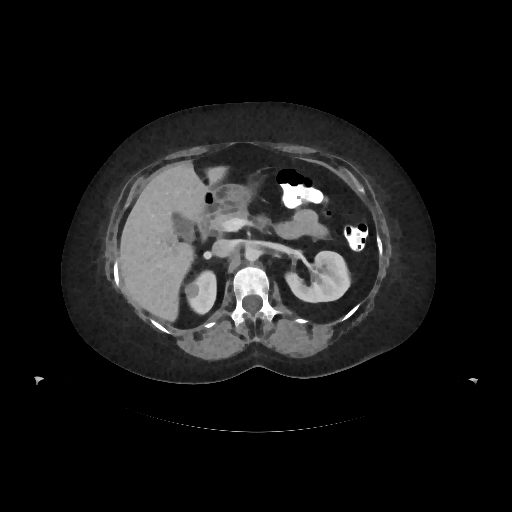Lesion: (184, 283, 201, 300)
